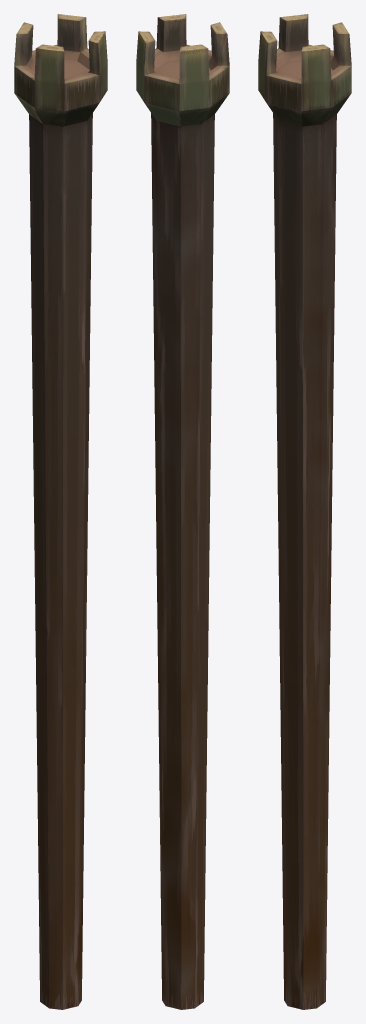
File: talltorch.glb
The picture shows the model from 3 angles, left to right: view 1: azimuth 30°, elevation 25°; view 2: azimuth 150°, elevation 25°; view 3: azimuth 330°, elevation 25°; orthographic projection.
Visible parts, largest first — view 1: talltorch; view 2: talltorch; view 3: talltorch.
Boxes of the visible parts, x1,y1,x2,y2 form: talltorch: (14,14,107,1009); talltorch: (136,14,229,1009); talltorch: (258,14,351,1009).
Bounding box in the file's own units: 0.4022 × 5.08 × 0.4022.
1 material, 1 textured.
